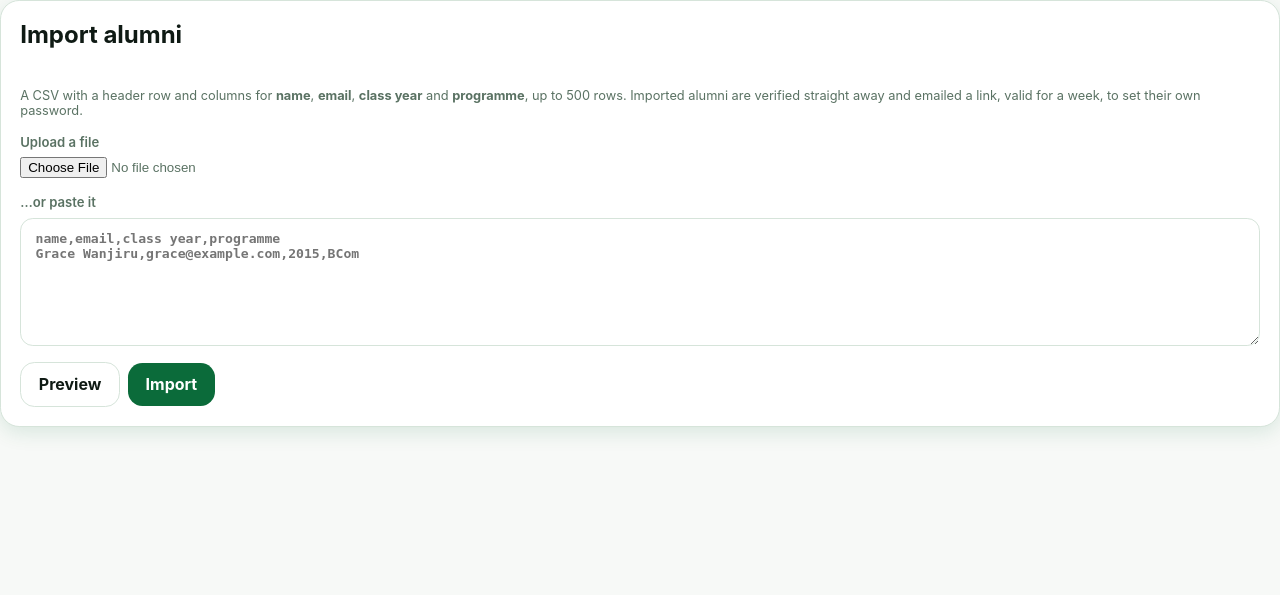
Test case: admin tools › previews an import before creating anything
Type "name,email,class year,programme" into the text box labelled "…or paste it" at (640, 282), box [20, 218, 1260, 346]
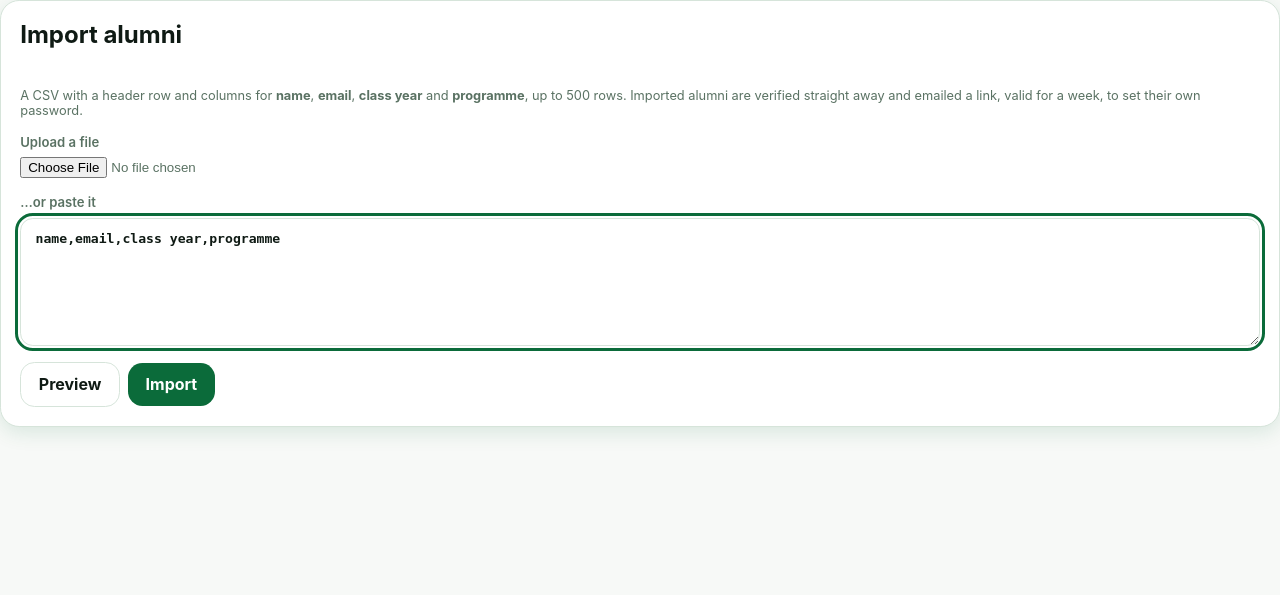
Click the button "Preview" at (70, 384), box [20, 362, 120, 407]
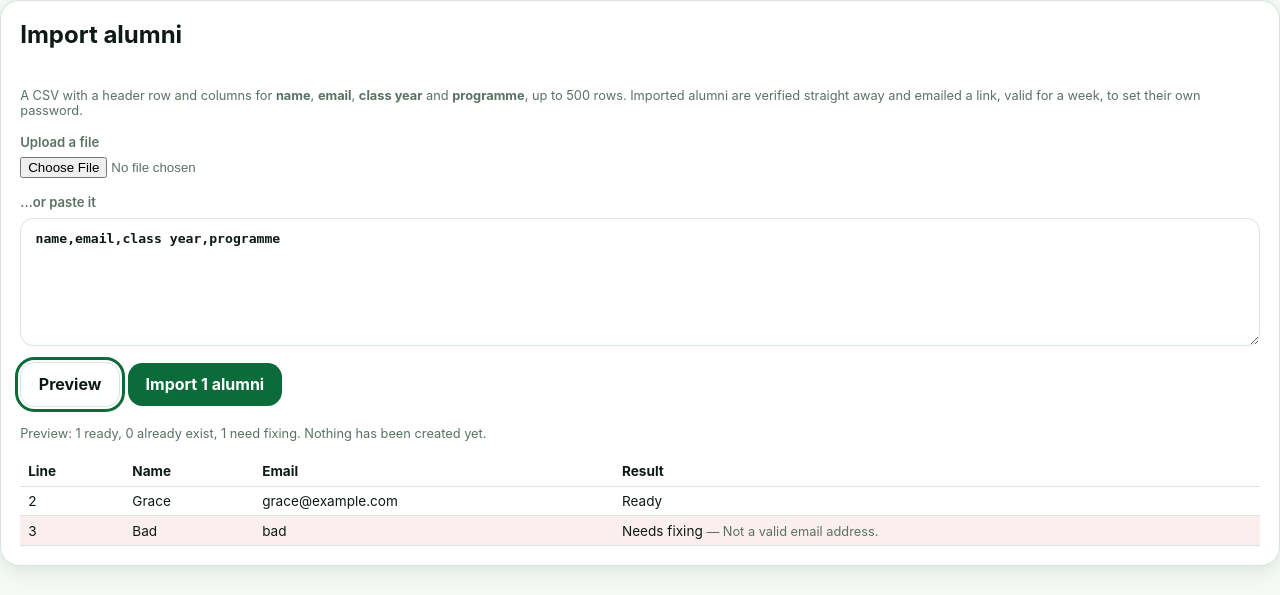
expect the text "Nothing has been created yet" is shown: met, box [20, 426, 486, 441]
expect the text "— Not a valid email address." is shown: met, box [703, 524, 878, 539]
Click the button "Import 1 alumni" at (205, 384), box [128, 363, 282, 406]
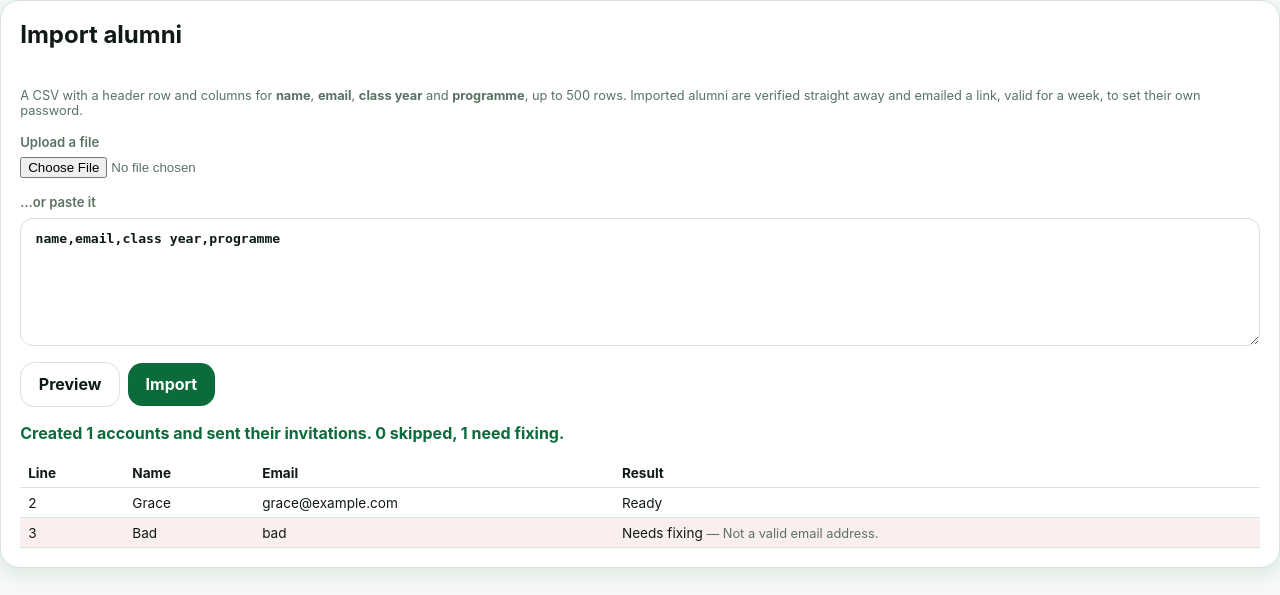
expect the text "Created 1 accounts" is shown: met, box [20, 423, 564, 443]
